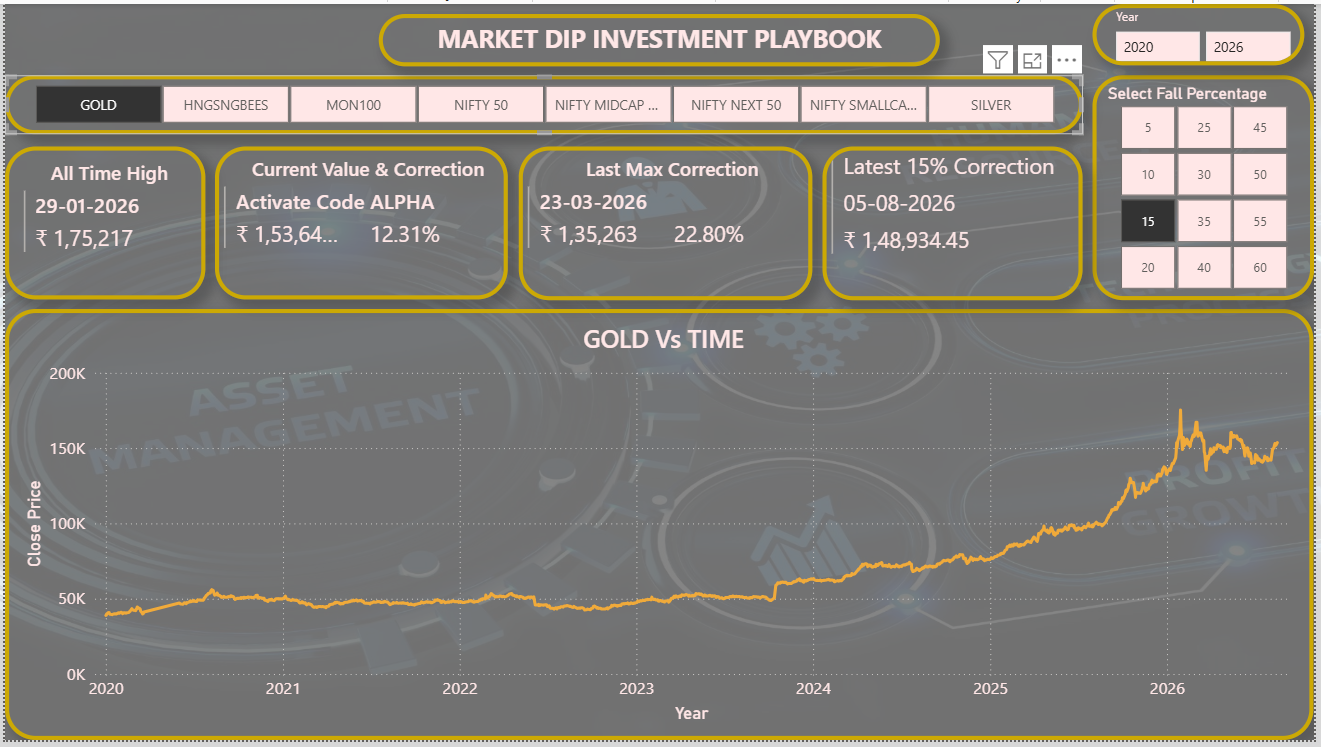

The dashboard page shown, as its layout file describes it:
{"tool":"powerbi","page":{"name":"Dashboard","canvas":[1280,720],"ordinal":0},"visuals":[{"type":"slicer","fields":{"Values":["Commodities.Asset Class"]},"box":[0,69.7,1054.1,57.5],"z":0},{"type":"multiRowCard","title":"All Time High","fields":{"Values":["Combine Data.Dt ATH","Combine Data.ATH"]},"box":[0,140,196.2,149.6],"z":1000},{"type":"multiRowCard","title":"Current Value & Correction","fields":{"Values":["Combine Data.Current Value","Combine Data.Current Correction","Combine Data.Play Book"]},"box":[205.8,140,286.8,149.6],"z":2000},{"type":"multiRowCard","title":"Last Max Correction","fields":{"Values":["Combine Data.dt max correction","Combine Data.Max correction","Combine Data.Max correction(%)"]},"box":[502.4,139.4,287.4,150.4],"z":3000},{"type":"lineChart","fields":{"Category":["Combine Data.DATE.Variation.Date Hierarchy.Year","Combine Data.DATE.Variation.Date Hierarchy.Quarter","Combine Data.DATE.Variation.Date Hierarchy.Month","Combine Data.DATE.Variation.Date Hierarchy.Day"],"Y":["Sum(Combine Data.ADJ. PRICE)"]},"box":[0,298.4,1280.3,421.9],"z":4000},{"type":"slicer","fields":{"Values":["Fall Percentage.Fall Percentage"]},"box":[1063.9,69.7,216.4,220.1],"z":5000},{"type":"multiRowCard","title":"Latest Correction","fields":{"Values":["Fall Percentage.Header","Combine Data.Date of Fall","Combine Data.Fall Value"]},"box":[799.5,139.4,254.3,150.4],"z":6000},{"type":"textbox","box":[365.5,9.8,549.1,51.4],"z":7000},{"type":"slicer","fields":{"Values":["Combine Data.DATE.Variation.Date Hierarchy.Year"]},"box":[1063.5,0,207.2,60.4],"z":8000}]}

Visuals, with their boxes in screenshot pixels (x1, y1, x2, y2), scaled from the page's 1280x720 canvas onto the 1321x747 screenshot:
slicer - Commodities.Asset Class: (x1=0, y1=72, x2=1088, y2=132)
"All Time High" multiRowCard: (x1=0, y1=145, x2=202, y2=300)
"Current Value & Correction" multiRowCard: (x1=212, y1=145, x2=508, y2=300)
"Last Max Correction" multiRowCard: (x1=518, y1=145, x2=815, y2=301)
lineChart - Combine Data.DATE.Variation.Date Hierarchy.Year x Combine Data.DATE.Variation.Date Hierarchy.Quarter: (x1=0, y1=310, x2=1320, y2=746)
slicer - Fall Percentage.Fall Percentage: (x1=1098, y1=72, x2=1320, y2=301)
"Latest Correction" multiRowCard: (x1=825, y1=145, x2=1088, y2=301)
textbox: (x1=377, y1=10, x2=944, y2=63)
slicer - Combine Data.DATE.Variation.Date Hierarchy.Year: (x1=1098, y1=0, x2=1311, y2=63)
